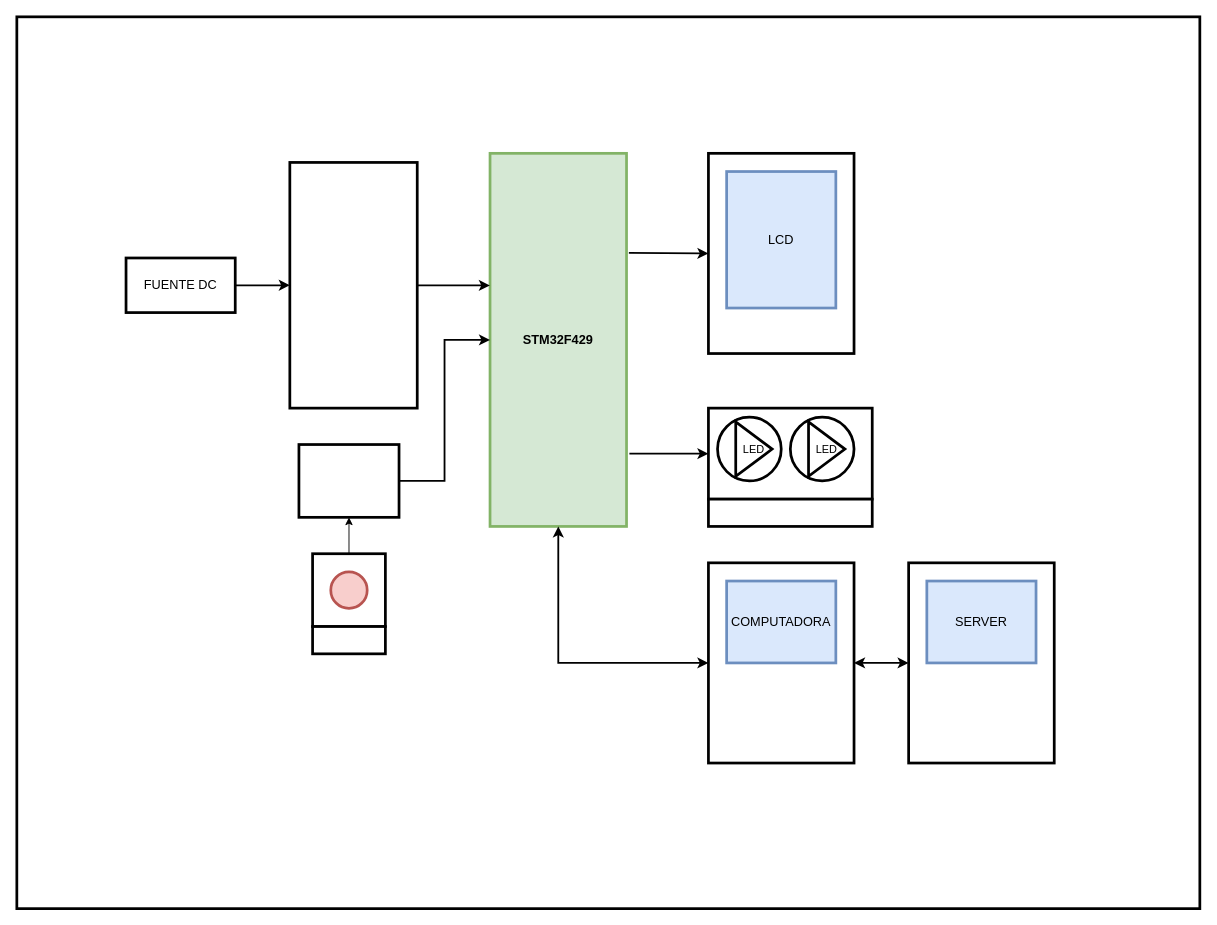
Some shapes in this 1217 by 925 pixel diagram are drawn without their labels. Each missing label, with the centre of its shape:
ACONDICIONADOR TENSION: (353,285)
ANTIRREBOTE: (348,480)
LEDS INDICADORES: (790,512)
SERIAL: (348,640)
